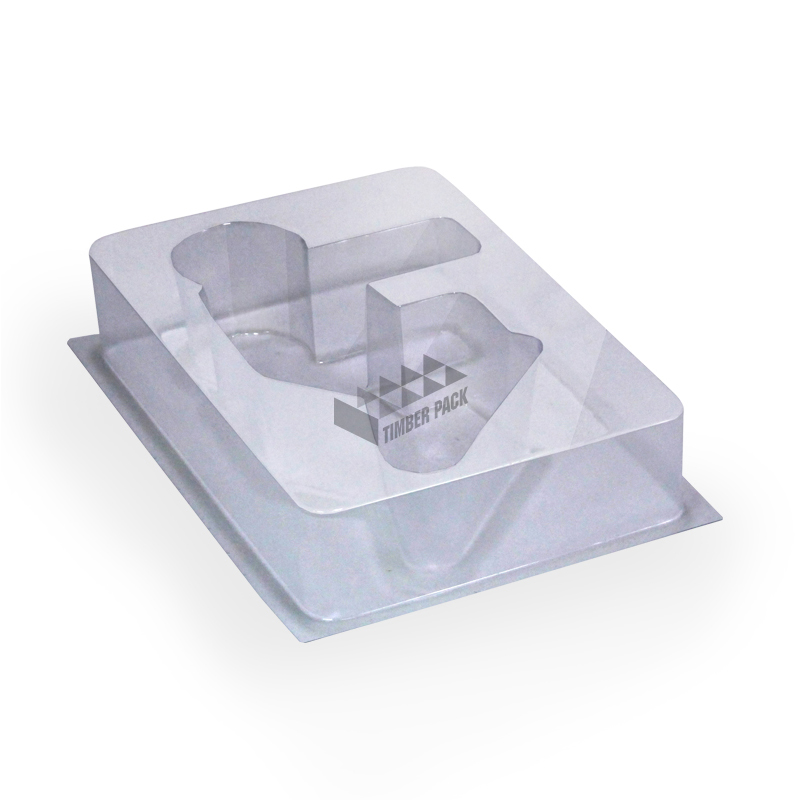PlasticBox: (58, 156, 725, 651)
